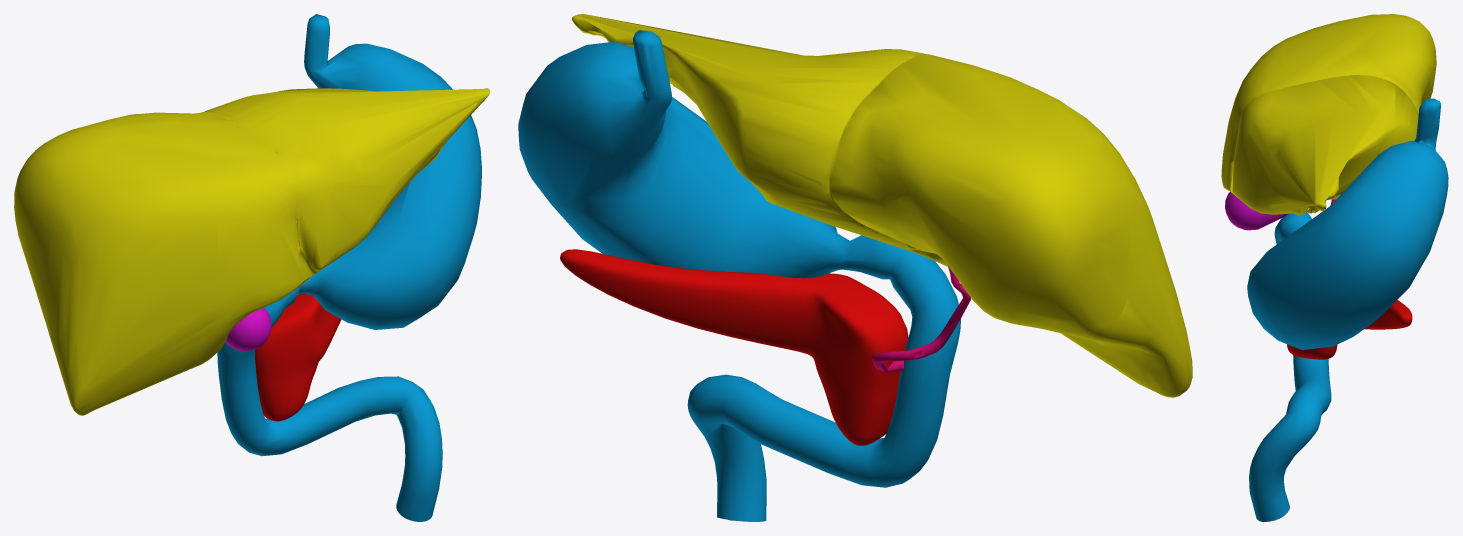
The model's file is stomach-2.obj.
3 views of the same model, side by side, from view 1: azimuth 30°, elevation 25°; view 2: azimuth 150°, elevation 25°; view 3: azimuth 270°, elevation 25° (orthographic). The views are drawn at different scales.
Parts seen in each view (by area): view 1: karaciğer.001_Cube.001, SEROZA.000_Cylinder.001, pankreas_Cube; view 2: karaciğer.001_Cube.001, SEROZA.000_Cylinder.001, pankreas_Cube; view 3: SEROZA.000_Cylinder.001, karaciğer.001_Cube.001, pankreas_Cube.
Part boxes in pixels (x1,y1,x2,y2): karaciğer.001_Cube.001: (14, 88, 489, 415); SEROZA.000_Cylinder.001: (217, 14, 481, 521); pankreas_Cube: (255, 293, 341, 421); karaciğer.001_Cube.001: (572, 14, 1192, 397); SEROZA.000_Cylinder.001: (518, 30, 960, 521); pankreas_Cube: (560, 249, 908, 445); SEROZA.000_Cylinder.001: (1247, 98, 1448, 521); karaciğer.001_Cube.001: (1221, 14, 1436, 230); pankreas_Cube: (1287, 300, 1412, 359).
Size of the model in its own units: 27.61 by 25.74 by 12.86.
